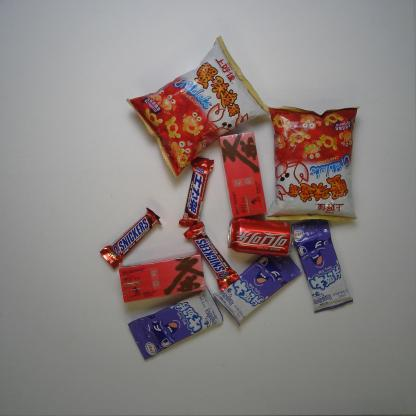Candy: (127, 285, 225, 360), (213, 255, 303, 326), (292, 218, 354, 314)
Chocolate: (182, 220, 241, 291), (99, 207, 163, 270), (177, 154, 216, 228)
Drink: (227, 218, 295, 259)
Instant Drink: (118, 250, 206, 304), (219, 127, 268, 219)
Puffed Food: (126, 36, 272, 180), (264, 104, 362, 223)
